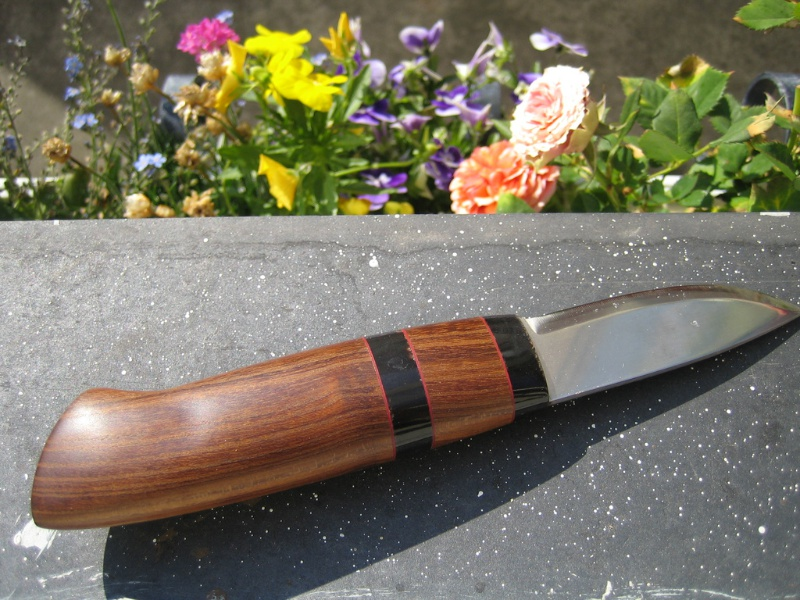knife: (29, 284, 799, 535)
